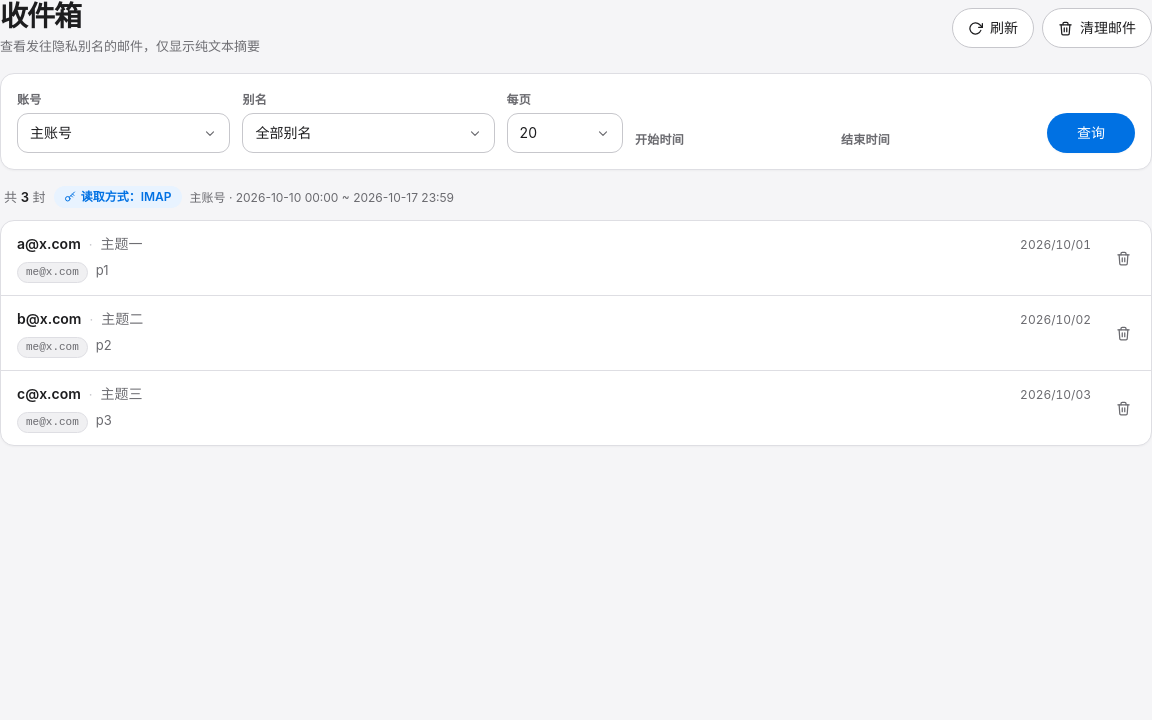
Scenario: InboxPage 批量清理 › 二次确认文案包含截止日与「及更早的邮件」语义
The width and height of the screenshot is (1152, 720).
Expected: the text "主题一" is shown, [100, 233, 142, 256]
Click the button "清理邮件" at (1097, 28), box [1042, 8, 1151, 48]
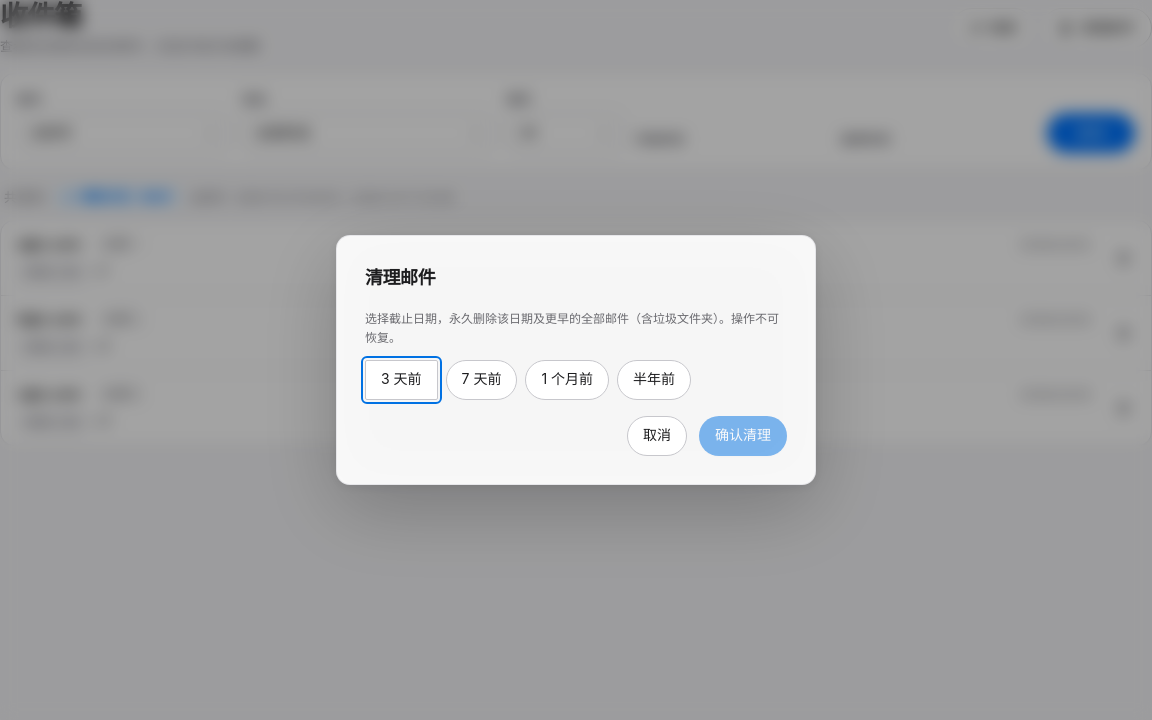
Click the button "7 天前" at (482, 380), box [446, 360, 518, 400]
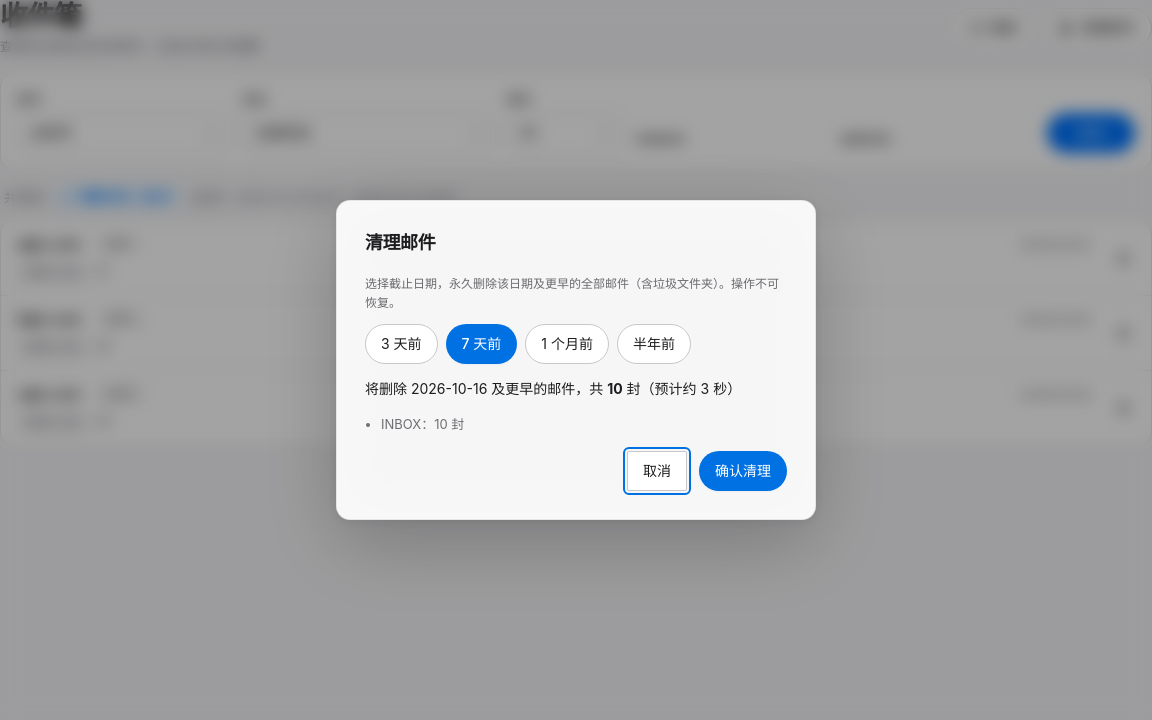
Expected: the text "将删除 2026-10-16 及更早的邮件，共 10 封（预计约 3 秒）" is shown, [365, 378, 787, 400]
Click the button "确认清理" at (743, 471), box [699, 451, 787, 491]
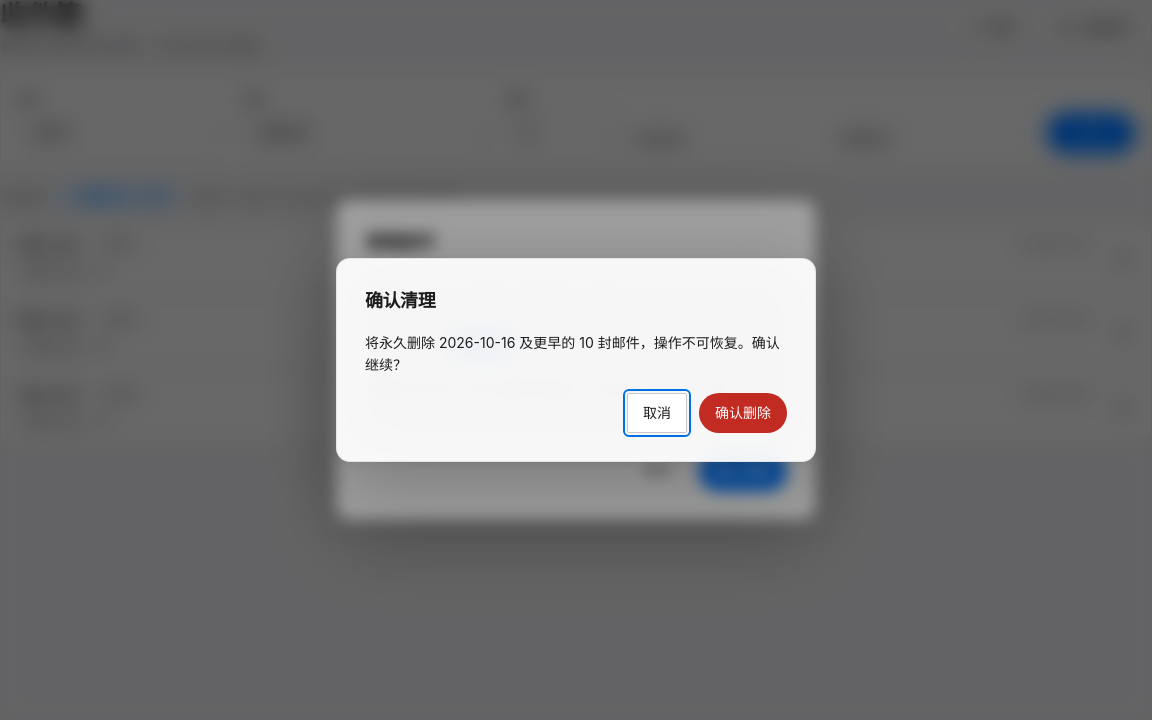
Expected: the text "将永久删除 2026-10-16 及更早的 10 封邮件，操作不可恢复。确认继续？" is shown, [365, 332, 787, 377]
